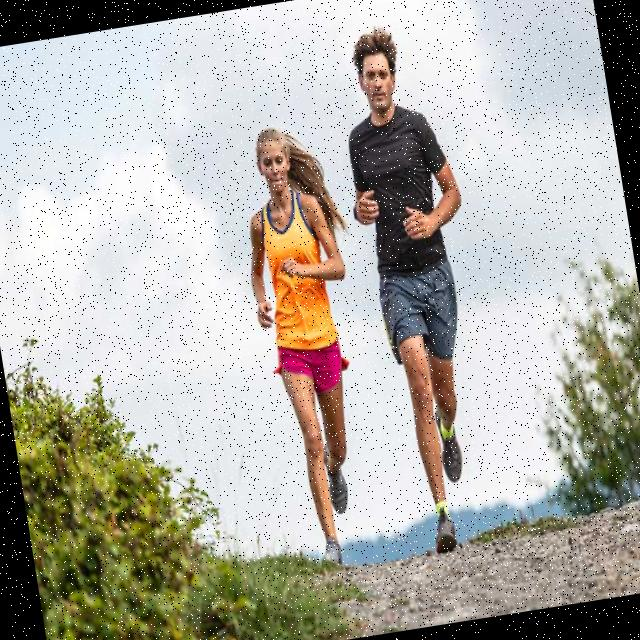Person: (327, 21, 515, 557), (228, 119, 400, 578)
